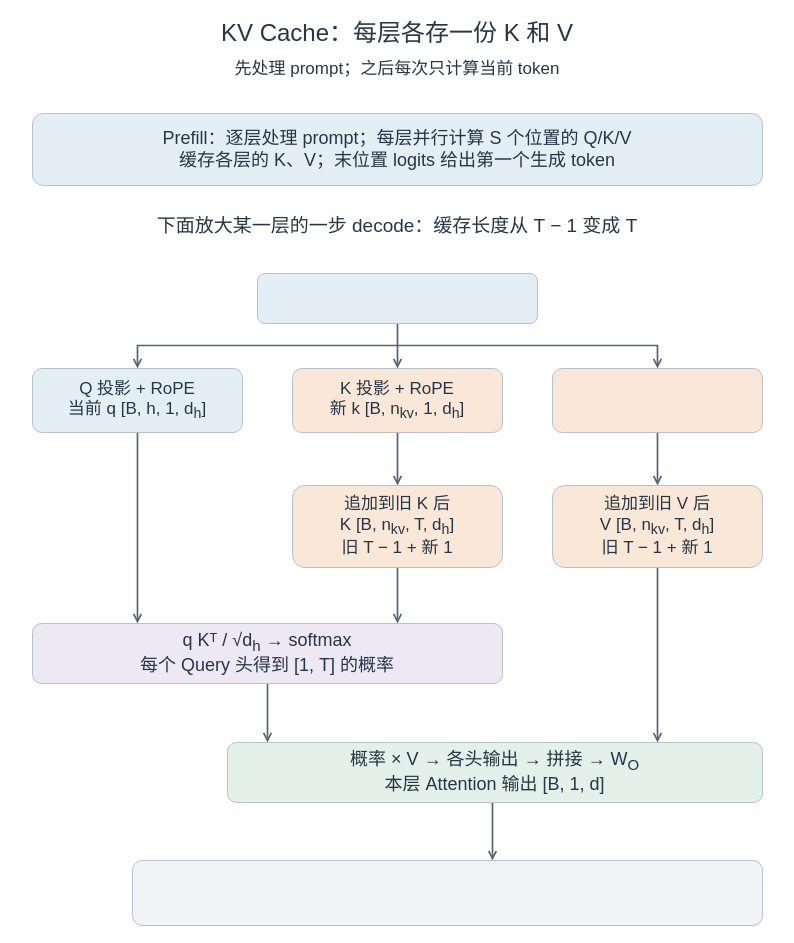
Image size: 794x943. Some labels were removed from this diagram. Each missing label, with the centre of its shape:
"V 投影 新 v [B, n kv , 1, d h ]" belongs at (657,400).
"当前 token 的归一化输入" belongs at (397,298).
"继续：残差、FFN、后续层 → 最终 Norm 与输出头 得到下一个 token 的 logits；每层缓存都保留到下一步" belongs at (447,893).
